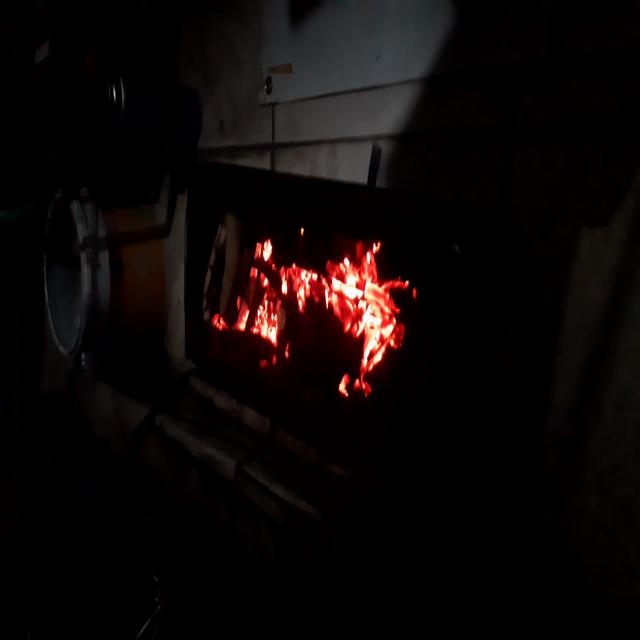Fire: (208, 205, 428, 409)
